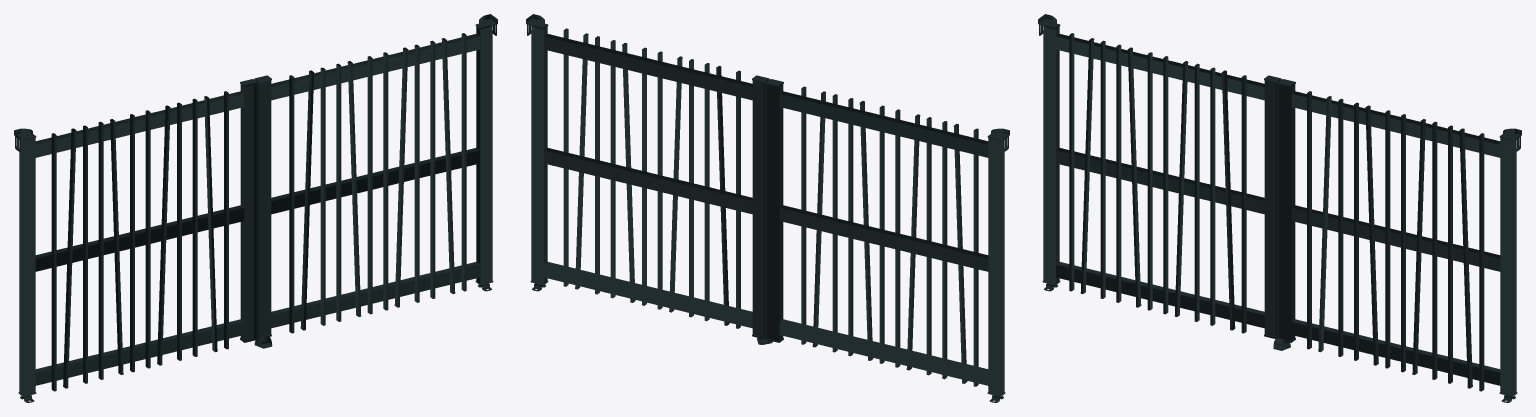
The picture shows the model from 3 angles, left to right: view 1: azimuth 30°, elevation 25°; view 2: azimuth 150°, elevation 25°; view 3: azimuth 330°, elevation 25°; orthographic projection.
Visible parts, largest first — view 1: folha2, folha1, priximbattable_net_portail_aluminium_battant_84003_portail_t; view 2: folha1, folha2, priximbattable_net_portail_aluminium_battant_84003_portail_t; view 3: folha2, folha1, priximbattable_net_portail_aluminium_battant_84003_portail_t.
Boxes of the visible parts, x1,y1,x2,y2 form: folha2: (254,23,493,339); folha1: (18,79,257,396); priximbattable_net_portail_aluminium_battant_84003_portail_t: (14,14,497,402); folha1: (761,79,1005,396); folha2: (530,23,769,339); priximbattable_net_portail_aluminium_battant_84003_portail_t: (526,14,1009,402); folha2: (1273,79,1517,396); folha1: (1042,23,1281,338); priximbattable_net_portail_aluminium_battant_84003_portail_t: (1038,14,1521,402).
Size of the model in its own units: 304 by 164 by 12.81.
Materials: 1 (1 with a texture image).
